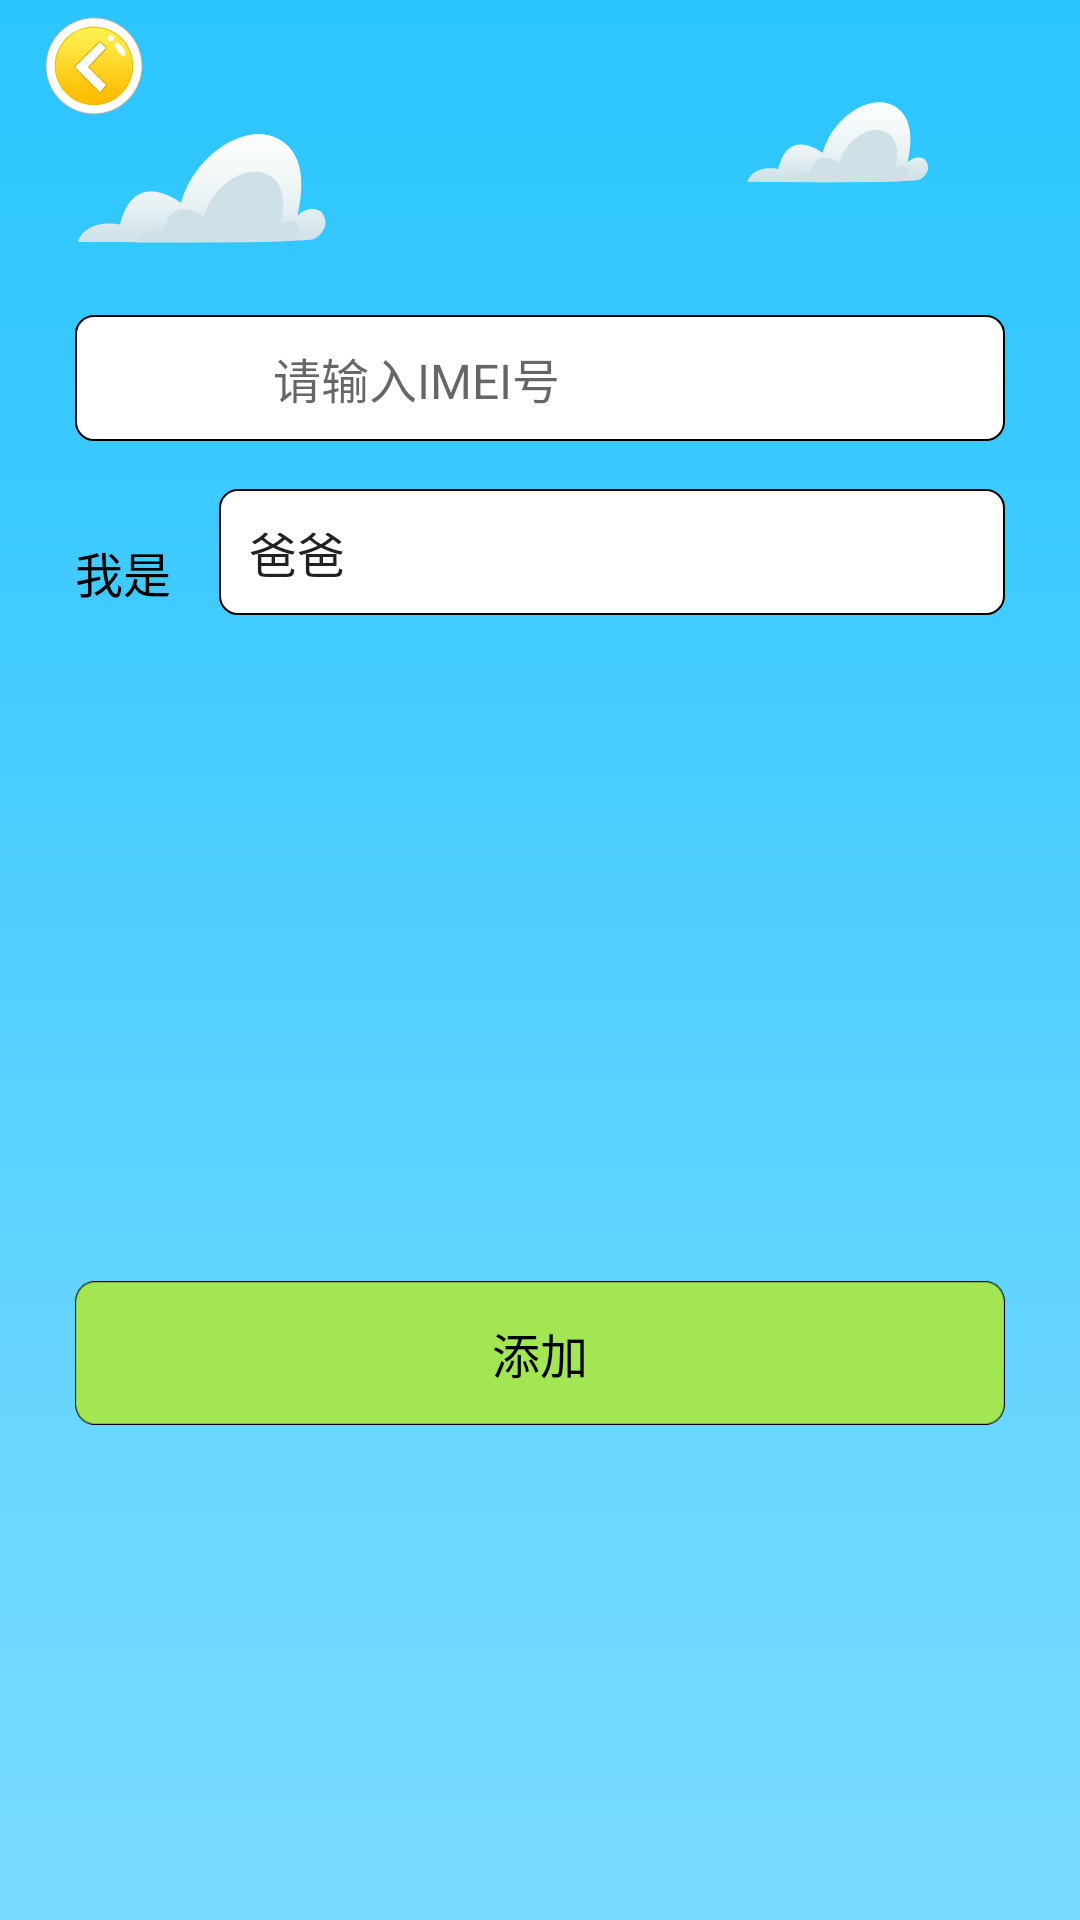

Screen size 1080w x 1920h. Icon name, then its box in pixels as (x1,y1,x2,y2):
back: (45,17,143,115)
